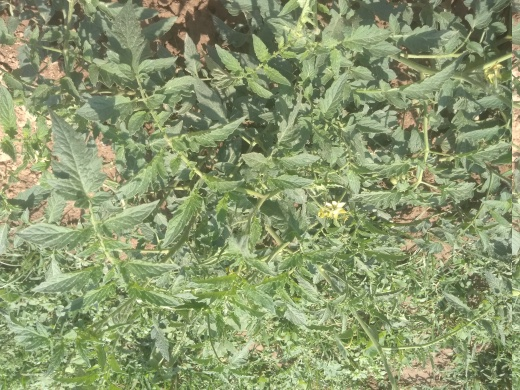tomato flower: (474, 52, 512, 88), (314, 198, 353, 229)
tomato plant: (70, 1, 518, 345)
